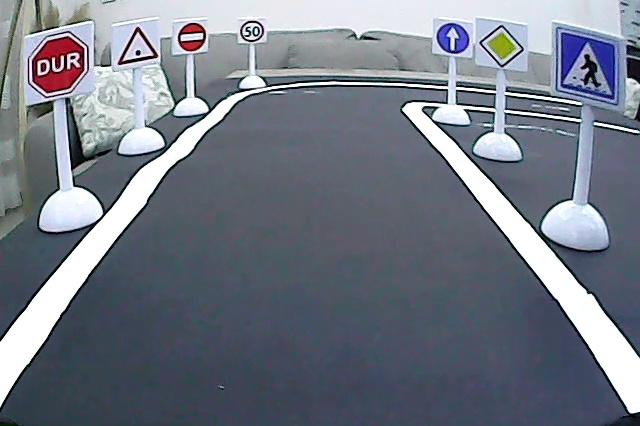do not enter: (172, 22, 210, 53)
green light: (113, 24, 159, 69)
pedestrian crossing: (550, 26, 623, 105)
speed limit 50: (236, 20, 267, 43)
stop sign: (24, 34, 91, 99)
